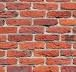brick: (5, 2, 31, 10), (7, 49, 31, 57), (19, 26, 45, 33), (46, 26, 72, 33), (45, 42, 71, 49), (33, 3, 58, 10), (33, 19, 57, 26), (18, 58, 45, 64), (45, 58, 72, 64), (8, 35, 34, 41), (33, 66, 59, 72), (35, 35, 60, 41), (19, 42, 44, 48), (34, 49, 59, 55), (21, 11, 45, 17), (47, 11, 71, 17), (7, 19, 32, 24), (7, 66, 32, 71), (60, 49, 76, 56), (59, 20, 76, 26), (1, 26, 18, 32), (1, 42, 18, 48), (1, 58, 17, 64), (61, 4, 76, 10), (1, 12, 18, 17), (61, 66, 76, 71), (61, 36, 76, 40), (1, 34, 7, 41), (1, 50, 6, 56), (1, 66, 6, 71), (1, 19, 5, 25)
